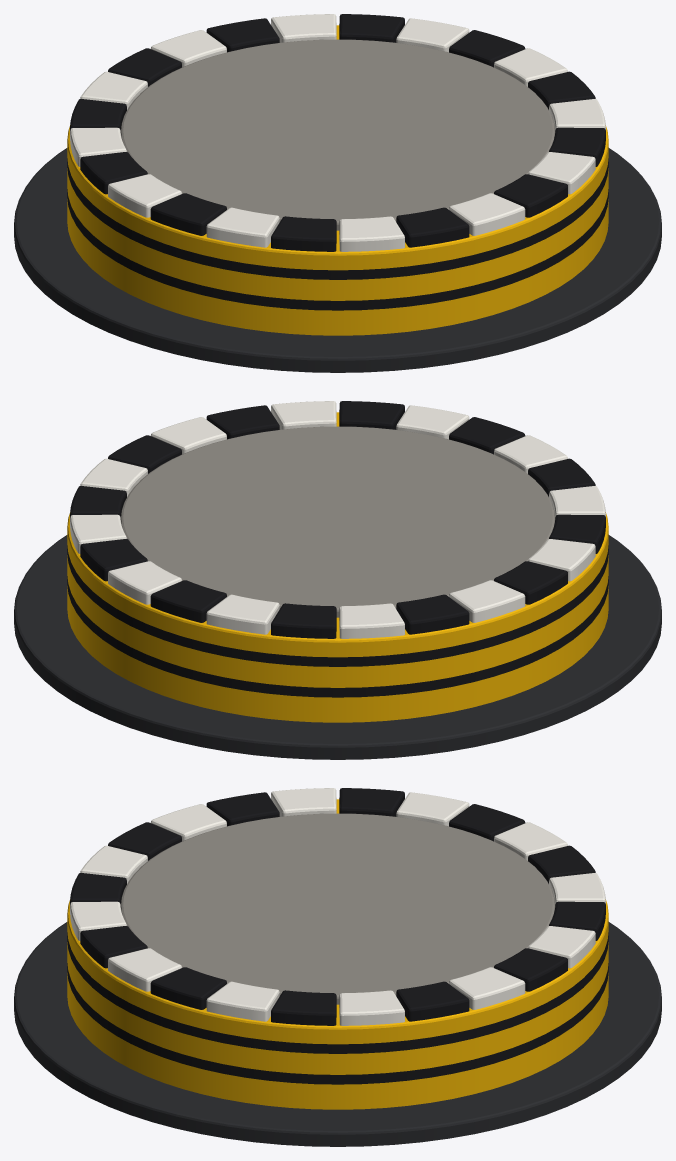
File: stage.glb
The picture shows the model from 3 angles, top to bottom: view 1: azimuth 30°, elevation 25°; view 2: azimuth 150°, elevation 25°; view 3: azimuth 270°, elevation 25°; orthographic projection.
Size of the model in its own units: 1.4 by 0.262 by 1.4.
